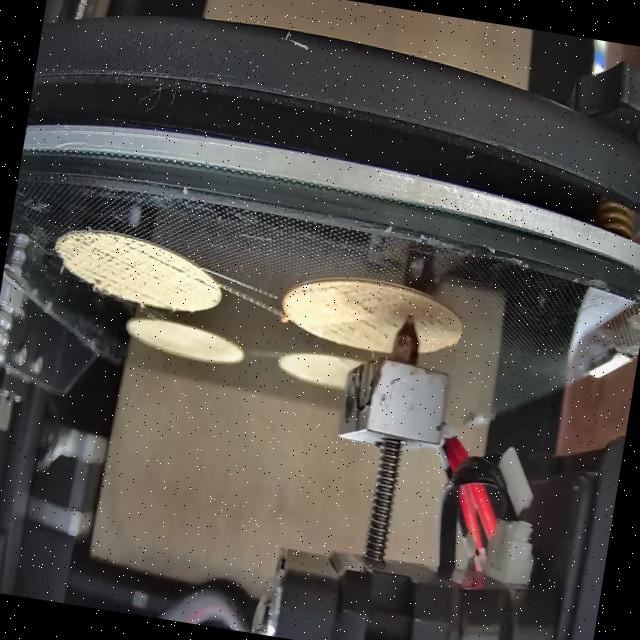under_extrusion: (54, 226, 192, 304), (327, 276, 405, 349), (400, 298, 454, 336), (294, 277, 332, 310), (192, 274, 221, 298)
